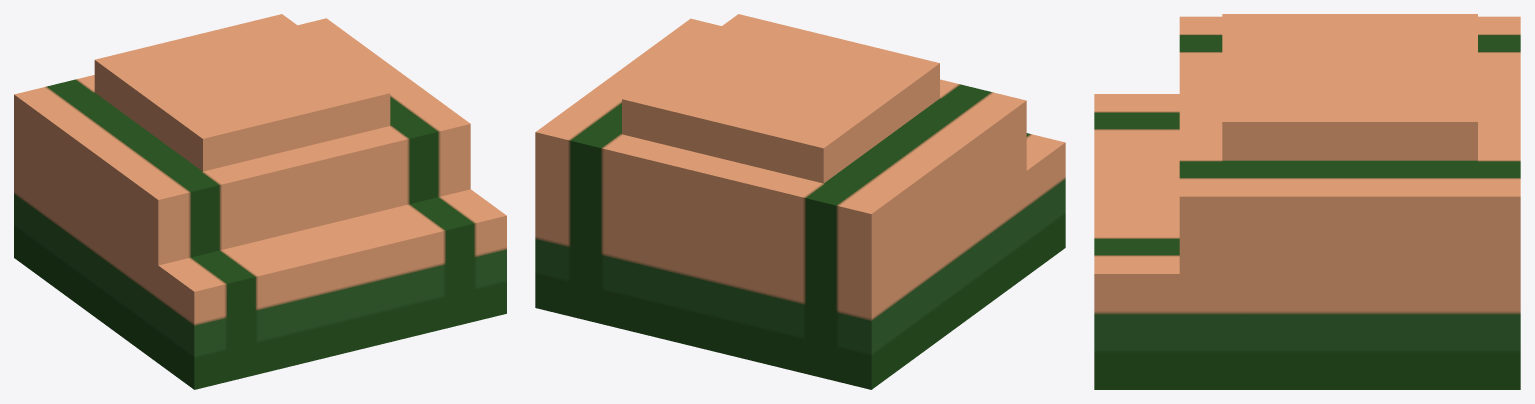
The model's file is Chest067.fbx.
3 renders of one model, left to right at view 1: azimuth 30°, elevation 25°; view 2: azimuth 150°, elevation 25°; view 3: azimuth 270°, elevation 25°, orthographic. The views are drawn at different scales.
Parts seen in each view (by area): view 1: Chest067; view 2: Chest067; view 3: Chest067.
Part boxes in pixels (x1,y1,x2,y2): Chest067: (14, 14, 506, 389); Chest067: (535, 14, 1065, 389); Chest067: (1094, 14, 1520, 389).
Size of the model in its own units: 10 by 6 by 10.
